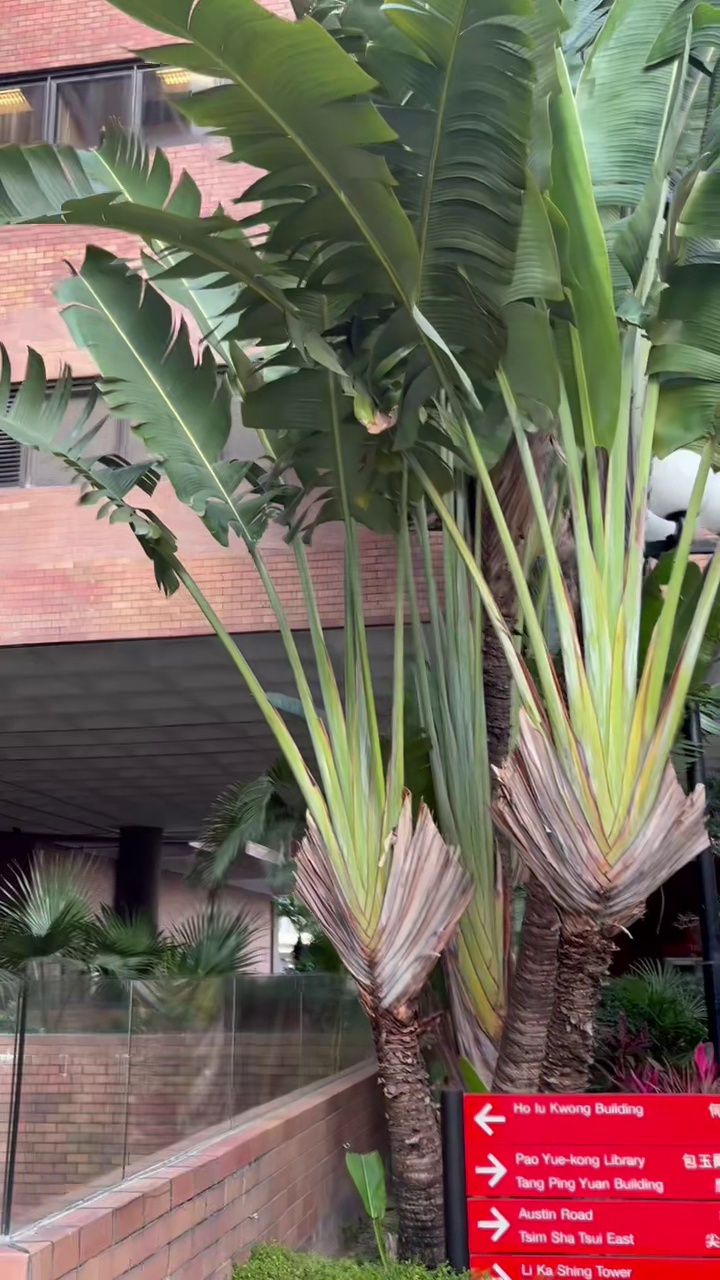Travellers-tree: (0, 0, 719, 1243)
